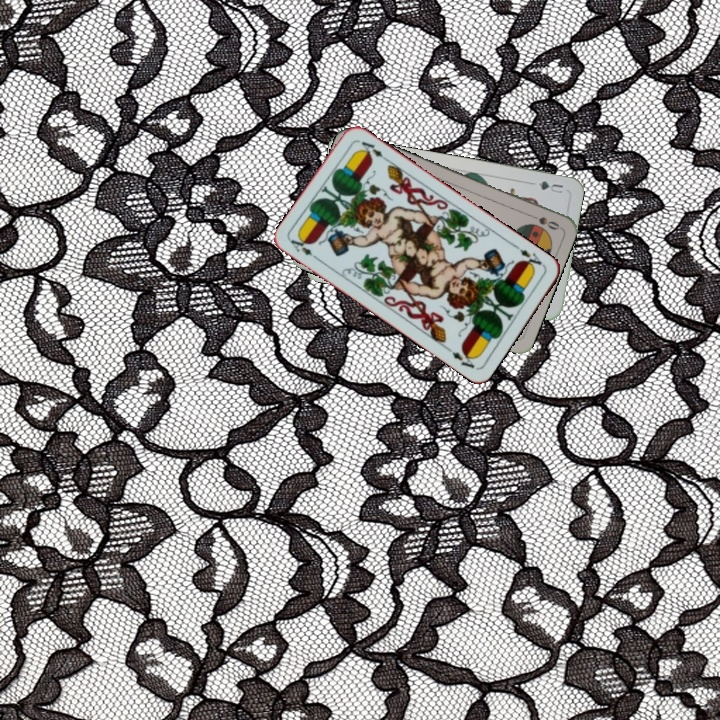EA: (511, 241, 547, 272), (286, 234, 322, 263)
GU: (534, 177, 566, 196)
SO: (523, 209, 562, 233)
